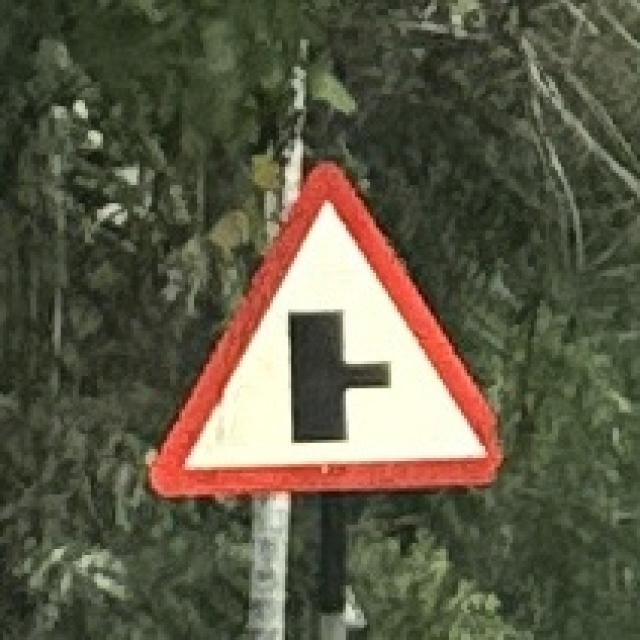SIDE_ROAD_RIGHT: (139, 147, 521, 511)
